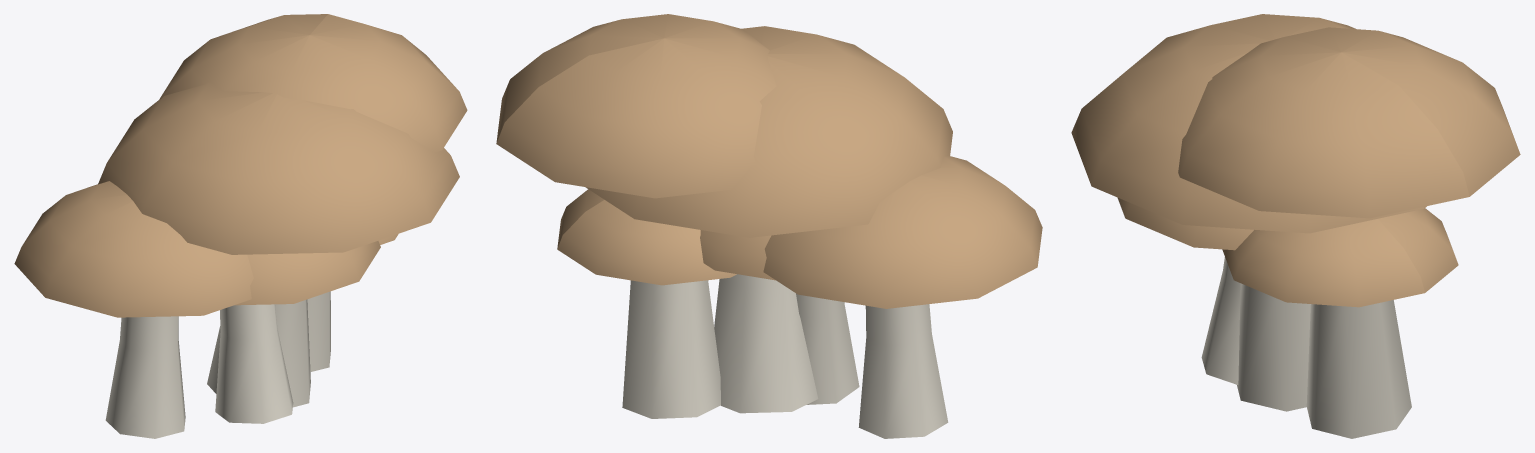
The model's file is mushrooms.glb.
3 renders of one model, left to right at view 1: azimuth 30°, elevation 25°; view 2: azimuth 150°, elevation 25°; view 3: azimuth 270°, elevation 25°, orthographic. The views are drawn at different scales.
Parts seen in each view (by area): view 1: mushrooms-cap, mushrooms-stem; view 2: mushrooms-cap, mushrooms-stem; view 3: mushrooms-cap, mushrooms-stem.
Boxes of the visible parts, x1,y1,x2,y2 form: mushrooms-cap: (14,14,467,317); mushrooms-stem: (105,291,330,438); mushrooms-cap: (496,14,1042,308); mushrooms-stem: (622,274,948,438); mushrooms-cap: (1071,14,1520,307); mushrooms-stem: (1201,257,1411,438).
Size of the model in its own units: 0.2454 by 0.1745 by 0.1904.
